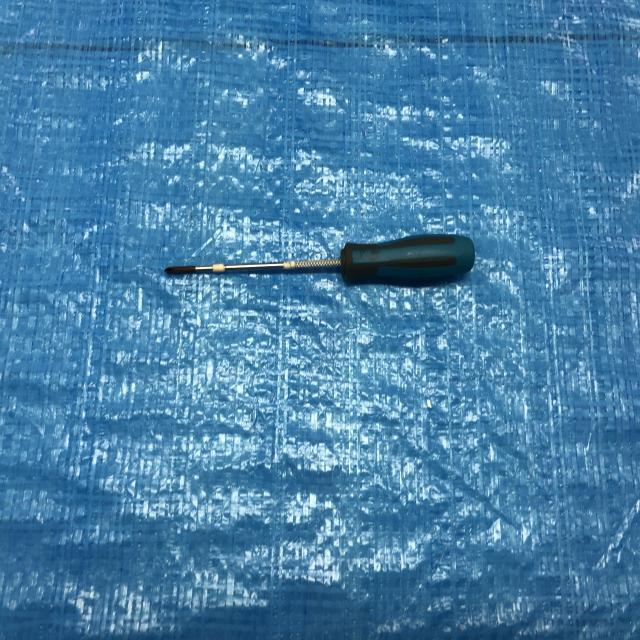screwdriver: (163, 224, 480, 293)
